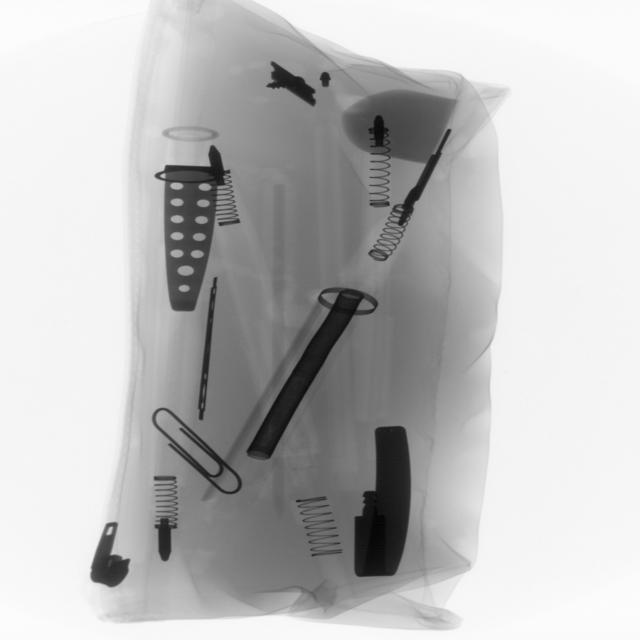knife: (162, 161, 215, 314)
pin: (149, 406, 249, 500)
